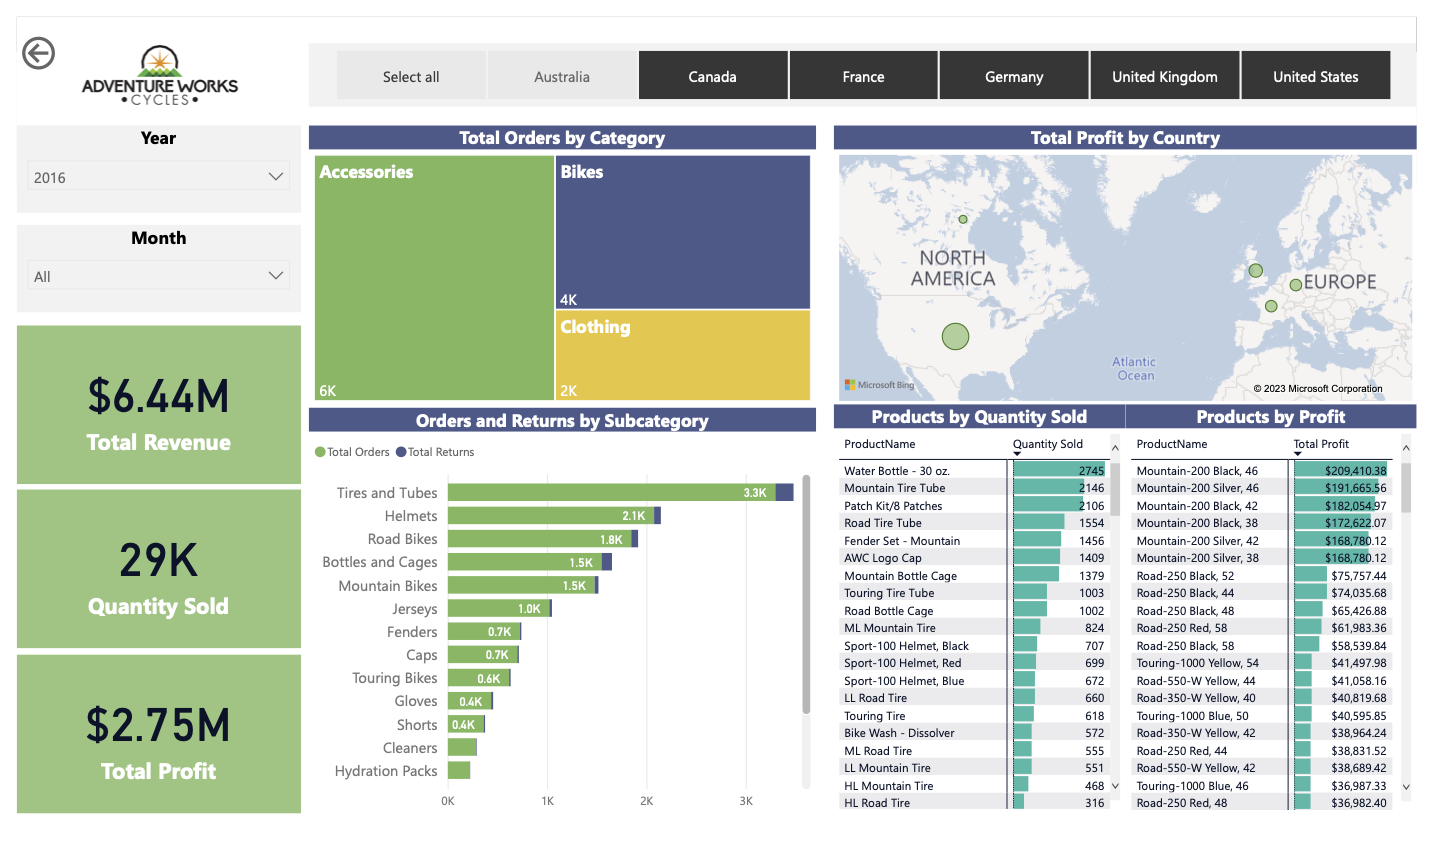

The page's visual inventory and layout, read from the dashboard file:
{"tool":"powerbi","page":{"name":"Excutive Summary","canvas":[1280,720],"ordinal":0},"visuals":[{"type":"image","box":[0,2.9,261.8,74.2],"z":0},{"type":"treemap","title":"Total Orders by Category","fields":{"Group":["AW_Product_Category_Lookup.CategoryName"],"Values":["AW_Sales.Total Orders"]},"box":[267.1,85.7,464.3,257.1],"z":1000},{"type":"actionButton","box":[0,0,100,40],"z":2000},{"type":"card","fields":{"Values":["AW_Sales.Total Revenue"]},"box":[0,268.6,260,145],"z":3000},{"type":"card","fields":{"Values":["AW_Sales.Quantity Sold"]},"box":[0,418.6,260,145],"z":4000},{"type":"slicer","title":"Year","fields":{"Values":["AW_Calendar_Lookup.Year"]},"box":[0,85.7,260,80],"z":5000},{"type":"slicer","title":"Month","fields":{"Values":["AW_Calendar_Lookup.Month Name"]},"box":[0,177.1,260,80],"z":6000},{"type":"slicer","title":"Country","fields":{"Values":["AW_Territories_Lookup.Country"]},"box":[267.1,11.4,1012.9,57.1],"z":7000},{"type":"card","fields":{"Values":["AW_Sales.Total Profit"]},"box":[0,570,260,145],"z":8000},{"type":"barChart","title":"Orders and Returns by Subcategory","fields":{"Y":["AW_Sales.Total Orders","AW_Returns.Total Returns"],"Category":["AW_Product_Subcategory_Lookup.SubcategoryName"]},"box":[267.1,344.3,464.3,375.7],"z":9000},{"type":"map","title":"Total Profit by Country","fields":{"Category":["AW_Territories_Lookup.Country"],"Size":["AW_Sales.Total Profit"]},"box":[747.1,85.7,534.3,257.1],"z":10000},{"type":"pivotTable","title":"Products by Quantity Sold","fields":{"Rows":["AW_Product_Lookup.ProductName"],"Values":["AW_Sales.Quantity Sold"]},"box":[747.1,341.4,267.1,374.3],"z":11000},{"type":"pivotTable","title":"Products by Profit","fields":{"Rows":["AW_Product_Lookup.ProductName"],"Values":["AW_Sales.Total Profit"]},"box":[1014,341.3,266,375.5],"z":12000}]}

Visuals, with their boxes on the page's 1280x720 design canvas (x1, y1, x2, y2). These are canvas units, not pixel positions in the 1433x850 screenshot, which may show the page scaled, cropped or inside an application window:
image: box=[0, 3, 262, 77]
"Total Orders by Category" treemap: box=[267, 86, 731, 343]
actionButton: box=[0, 0, 100, 40]
card - AW_Sales.Total Revenue: box=[0, 269, 260, 414]
card - AW_Sales.Quantity Sold: box=[0, 419, 260, 564]
"Year" slicer: box=[0, 86, 260, 166]
"Month" slicer: box=[0, 177, 260, 257]
"Country" slicer: box=[267, 11, 1280, 68]
card - AW_Sales.Total Profit: box=[0, 570, 260, 715]
"Orders and Returns by Subcategory" barChart: box=[267, 344, 731, 720]
"Total Profit by Country" map: box=[747, 86, 1281, 343]
"Products by Quantity Sold" pivotTable: box=[747, 341, 1014, 716]
"Products by Profit" pivotTable: box=[1014, 341, 1280, 717]
